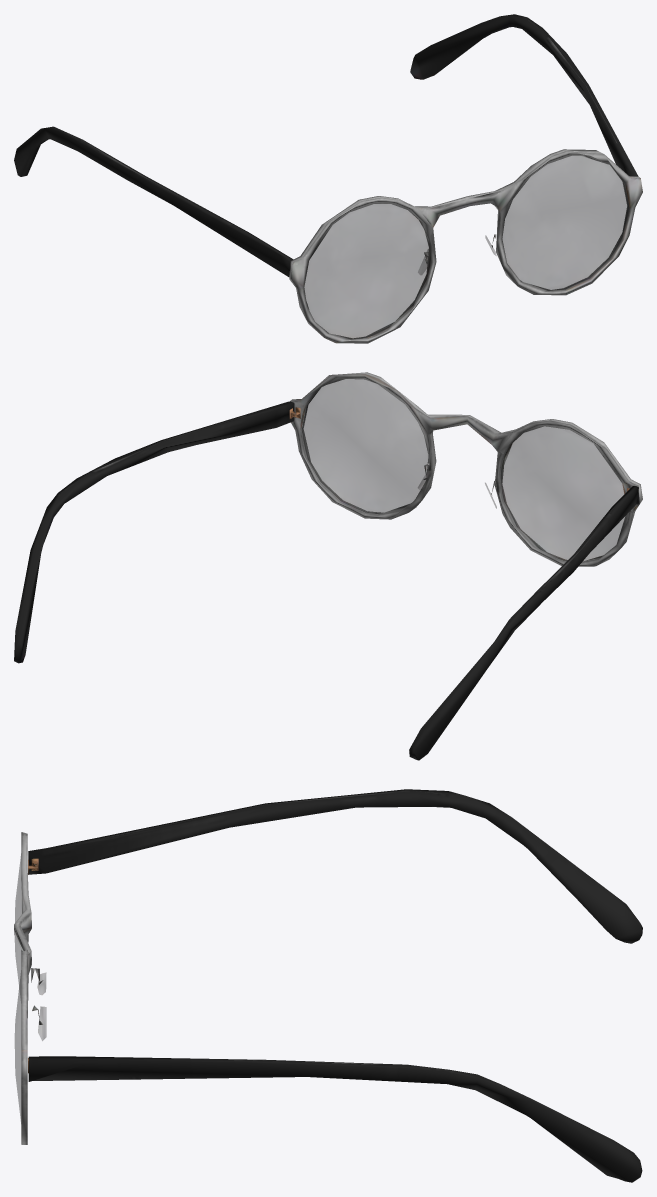
The model's file is spectacles.glb.
3 renders of one model, top to bottom at view 1: azimuth 30°, elevation 25°; view 2: azimuth 150°, elevation 25°; view 3: azimuth 270°, elevation 25°, orthographic. The views are drawn at different scales.
Visible parts, largest first — view 1: round_spectacles; view 2: round_spectacles; view 3: round_spectacles.
Boxes of the visible parts, left/top/right/bottom form: round_spectacles: left=14, top=14, right=642, bottom=343; round_spectacles: left=14, top=372, right=642, bottom=760; round_spectacles: left=14, top=789, right=642, bottom=1182.
Bounding box in the file's own units: 0.1573 × 0.0463 × 0.1488.
2 materials, 2 textured.
